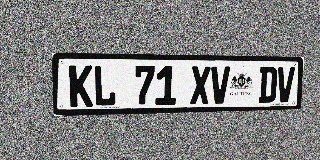1: (155, 66, 176, 105)
7: (134, 66, 155, 106)
D: (258, 67, 277, 103)
K: (69, 65, 93, 107)
L: (93, 65, 116, 107)
V: (210, 66, 230, 104), (276, 67, 295, 102)
X: (190, 66, 211, 104)
